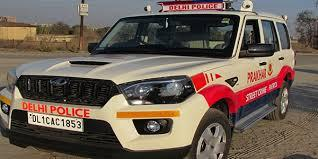Emergency-Vehicles: (0, 0, 292, 143)
